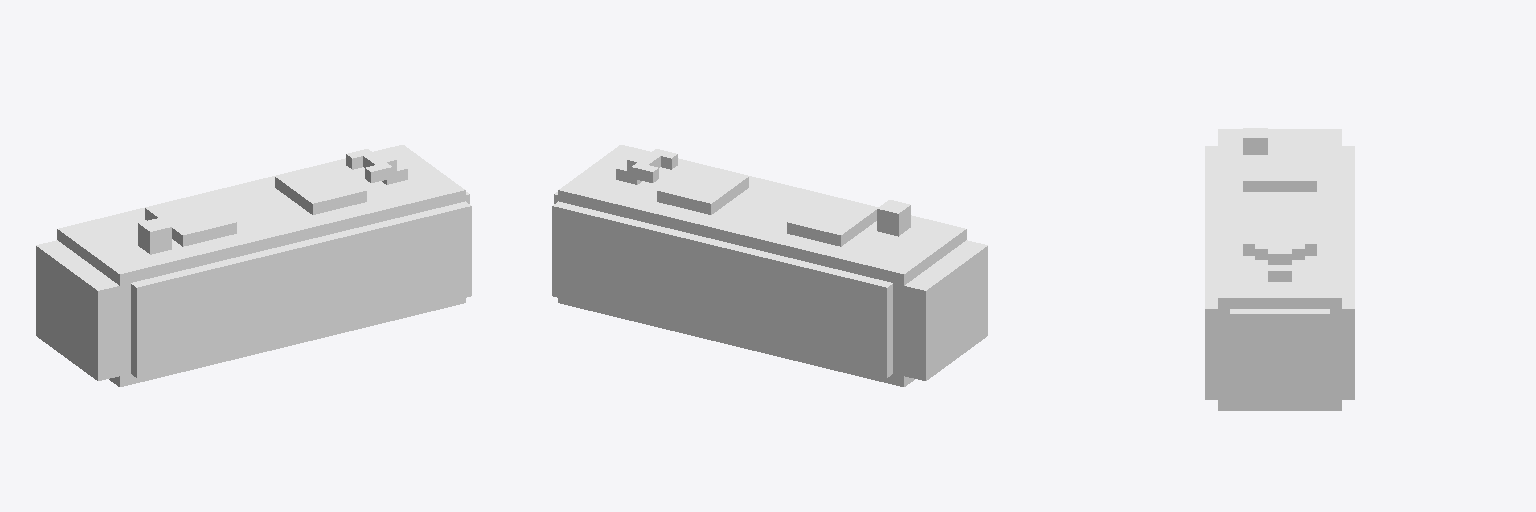
Rendered from tau.obj.
The picture shows the model from 3 angles: view 1: azimuth 30°, elevation 25°; view 2: azimuth 150°, elevation 25°; view 3: azimuth 270°, elevation 25°; orthographic projection.
Parts seen in each view (by area): view 1: object 1; view 2: object 1; view 3: object 1.
Boxes of the visible parts, box(x1,y1,x2,y2) form: object 1: box(36, 145, 471, 386); object 1: box(552, 145, 987, 386); object 1: box(1205, 128, 1354, 410).
Bounding box in the file's own units: 3.5 × 1.2 × 1.2.